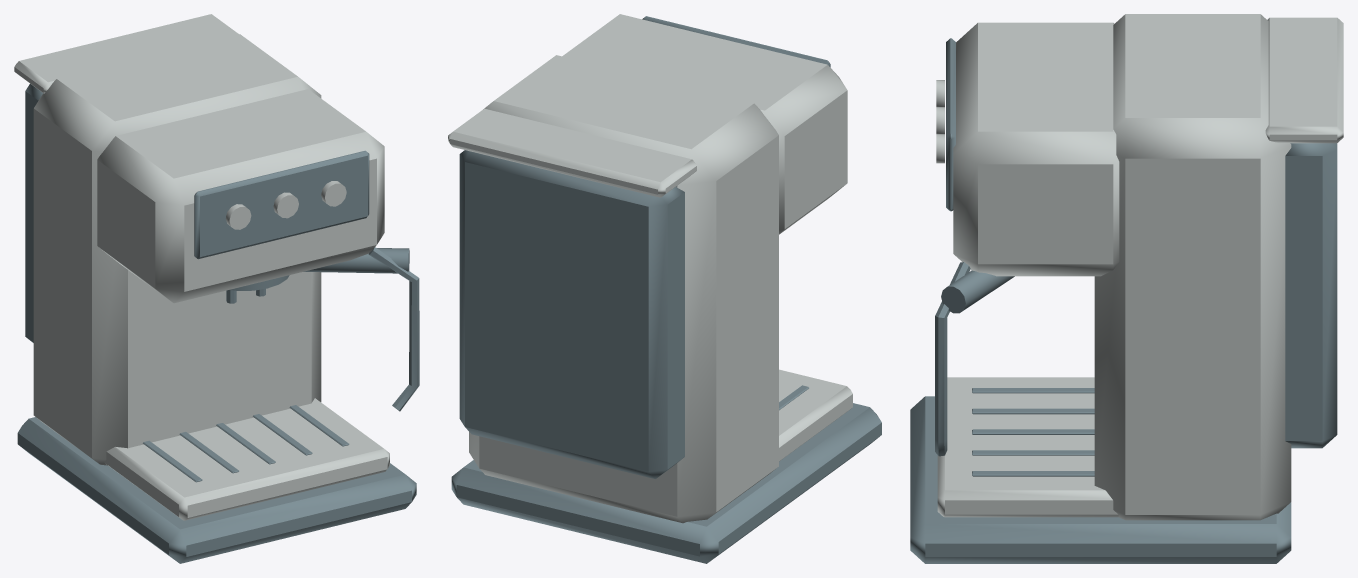
File: coffee-machine.glb
3 views of the same model, side by side, from view 1: azimuth 30°, elevation 25°; view 2: azimuth 150°, elevation 25°; view 3: azimuth 270°, elevation 25° (orthographic). The views are drawn at different scales.
Parts seen in each view (by area): view 1: rear_housing, brew_head, drip_tray, base, control_panel, tank_lid, water_tank, steam_wand, filter_handle, brew_button.001, brew_button.002, brew_button; view 2: water_tank, rear_housing, brew_head, base, tank_lid, drip_tray, control_panel; view 3: rear_housing, brew_head, base, drip_tray, water_tank, tank_lid, steam_wand, filter_handle, control_panel, drain_slot.001, drain_slot.003, drain_slot (+2 smaller).
Part boxes in pixels (left/top/right/bottom): rear_housing: left=33, top=34, right=321, bottom=465; brew_head: left=97, top=89, right=384, bottom=303; drip_tray: left=104, top=398, right=389, bottom=520; base: left=17, top=417, right=416, bottom=563; control_panel: left=194, top=150, right=369, bottom=259; tank_lid: left=14, top=14, right=238, bottom=93; water_tank: left=25, top=83, right=42, bottom=342; steam_wand: left=368, top=247, right=419, bottom=411; filter_handle: left=303, top=248, right=409, bottom=273; brew_button.001: left=273, top=192, right=298, bottom=218; brew_button.002: left=321, top=181, right=346, bottom=206; brew_button: left=225, top=204, right=251, bottom=229; water_tank: left=459, top=150, right=684, bottom=478; rear_housing: left=469, top=55, right=778, bottom=523; brew_head: left=562, top=14, right=847, bottom=234; base: left=451, top=403, right=881, bottom=563; tank_lid: left=448, top=108, right=696, bottom=197; drip_tray: left=779, top=369, right=852, bottom=461; control_panel: left=642, top=16, right=830, bottom=67; rear_housing: left=1094, top=14, right=1291, bottom=520; brew_head: left=953, top=22, right=1119, bottom=276; base: left=910, top=396, right=1291, bottom=563; drip_tray: left=937, top=377, right=1118, bottom=517; water_tank: left=1285, top=143, right=1337, bottom=448; tank_lid: left=1265, top=17, right=1343, bottom=143; steam_wand: left=935, top=262, right=970, bottom=456; filter_handle: left=941, top=270, right=1014, bottom=313; control_panel: left=946, top=38, right=955, bottom=211; drain_slot.001: left=972, top=408, right=1094, bottom=414; drain_slot.003: left=972, top=450, right=1094, bottom=455; drain_slot: left=972, top=388, right=1094, bottom=393.
Size of the model in its own units: 0.2814 by 0.39 by 0.3525.
